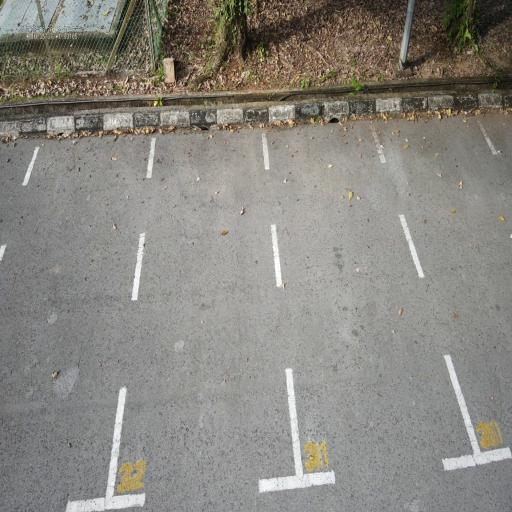Empty: (259, 121, 486, 491), (103, 121, 306, 512)
